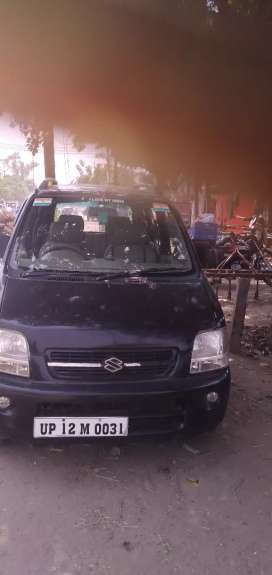license_plate: (32, 416, 130, 440)
